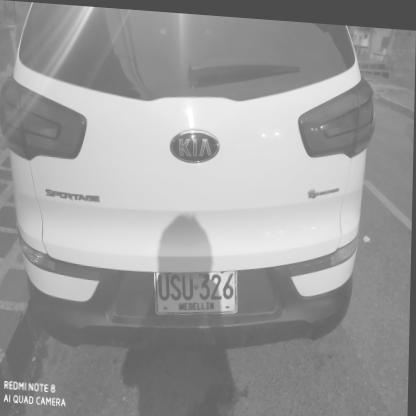placa: (146, 255, 245, 321)
